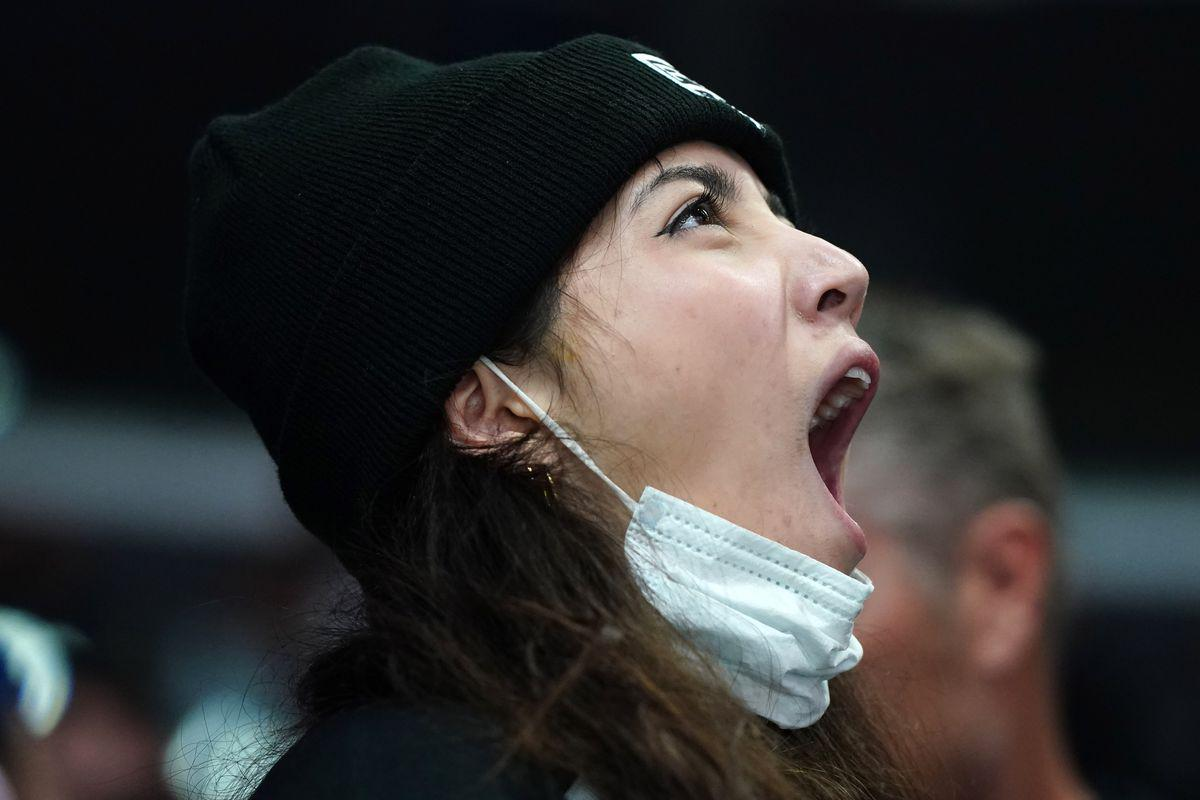mask_weared_incorrect: (559, 187, 943, 666)
